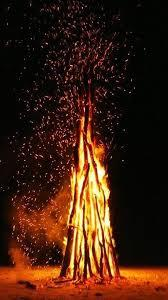Fire: (67, 103, 116, 276)
